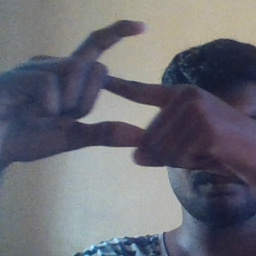E: (56, 15, 165, 153)
